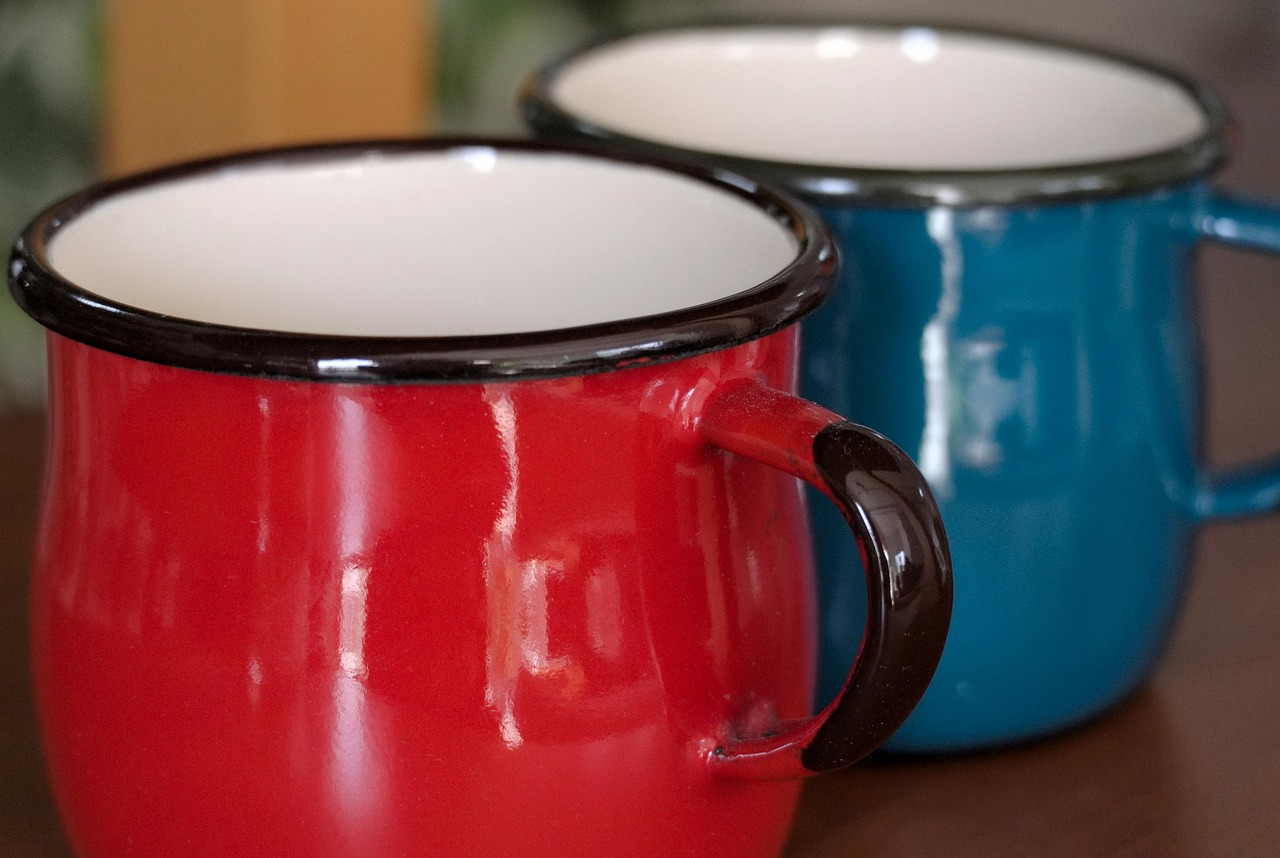mug: (13, 148, 956, 855), (526, 15, 1280, 786)
